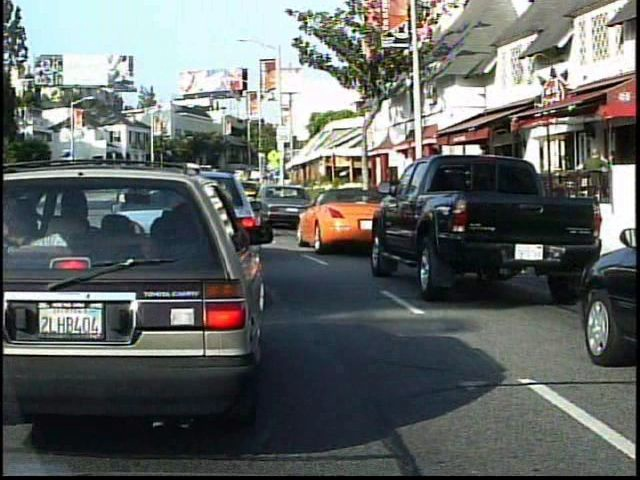person: (576, 144, 611, 225)
